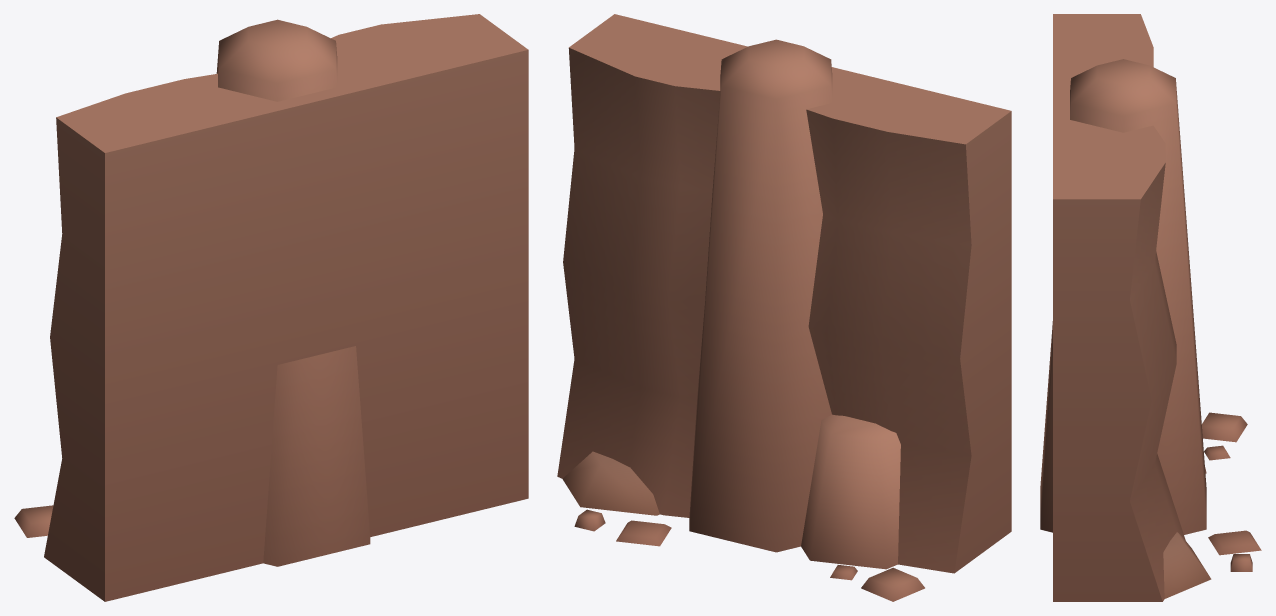
The model's file is template-wall-detail-a.obj.
3 views of the same model, side by side, from view 1: azimuth 30°, elevation 25°; view 2: azimuth 150°, elevation 25°; view 3: azimuth 270°, elevation 25° (orthographic). The views are drawn at different scales.
Visible parts, largest first — view 1: template-wall-detail-a; view 2: template-wall-detail-a; view 3: template-wall-detail-a.
Boxes of the visible parts, x1,y1,x2,y2 form: template-wall-detail-a: (14,14,528,601); template-wall-detail-a: (557,14,1011,601); template-wall-detail-a: (1040,14,1261,601).
Size of the model in its own units: 4 by 4.4 by 2.02.
1 material, 1 textured.
